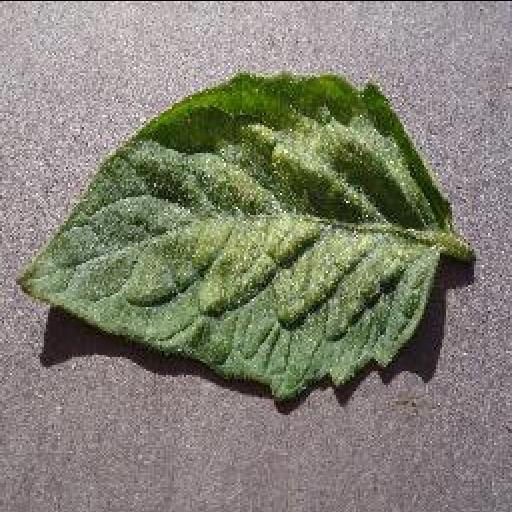disease_tomato: (16, 73, 450, 395)
